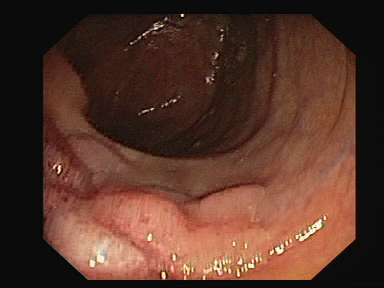polyp: (41, 122, 287, 281)
